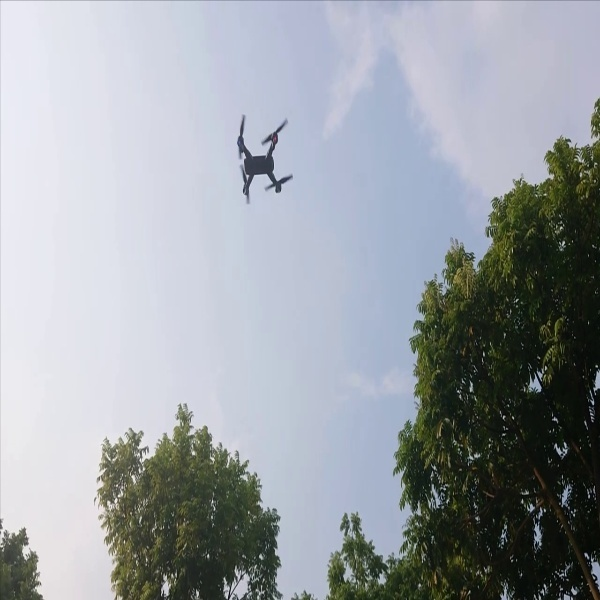drone: (223, 110, 301, 200)
